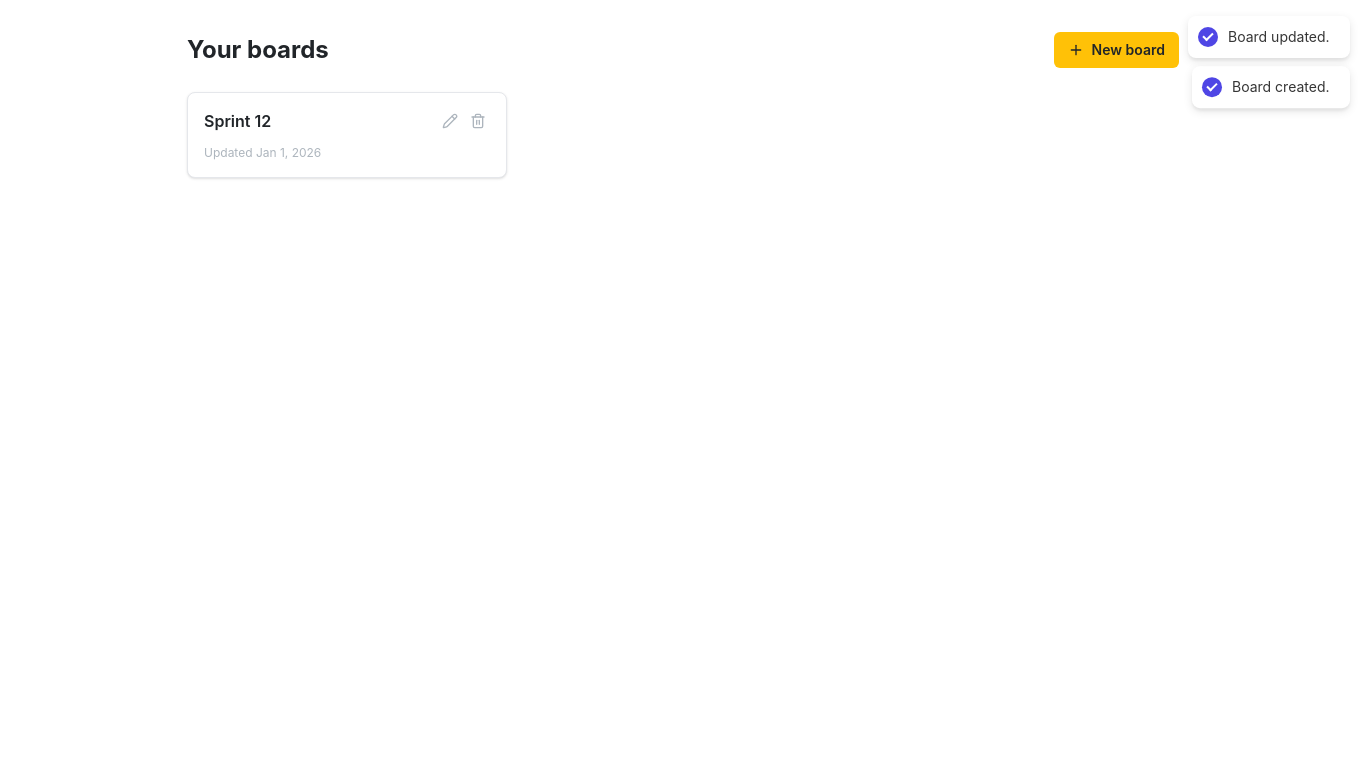
BoardsListPage › deletes a board after confirming
Expected: the link "Sprint 12" is shown, [204, 109, 271, 133]
Click the button named "Delete Sprint 12": [478, 121] box [466, 109, 490, 133]
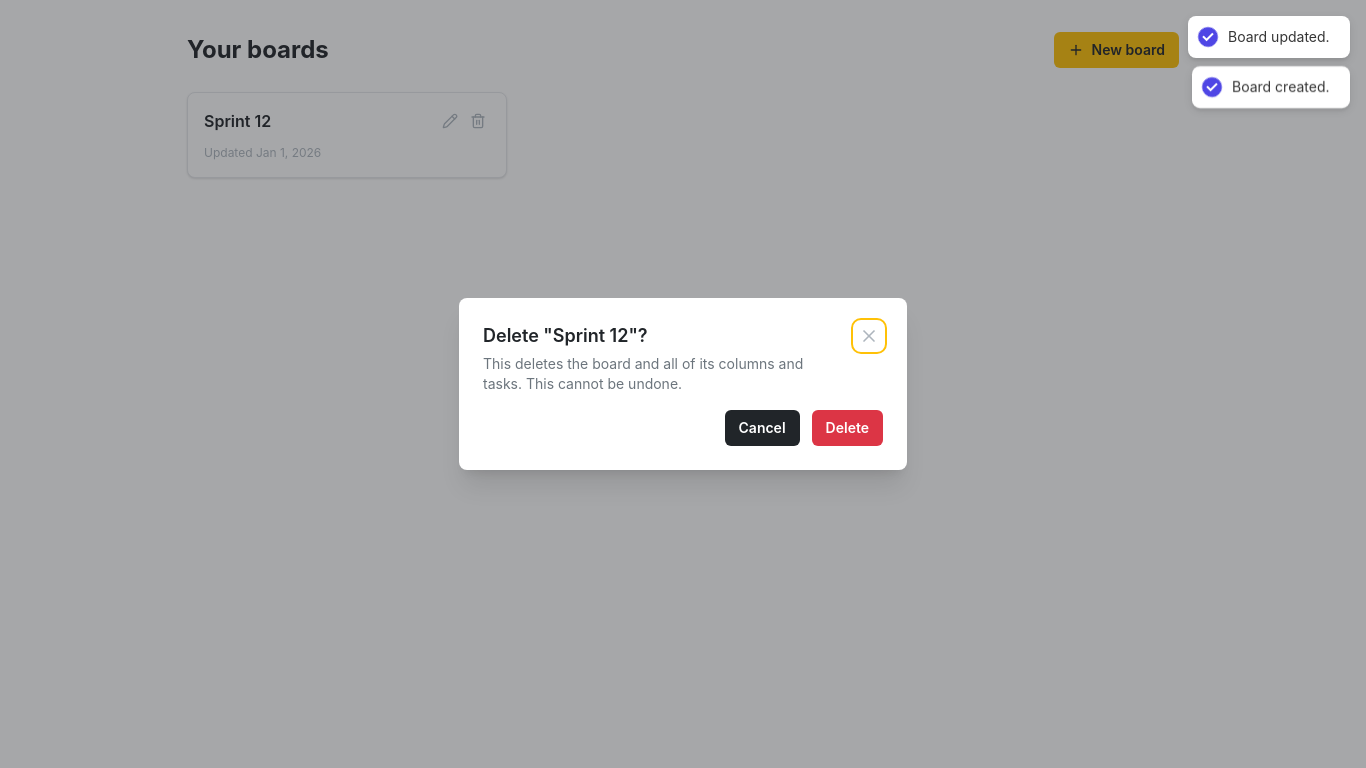
Click the button "Delete": [847, 428] box [812, 410, 883, 446]
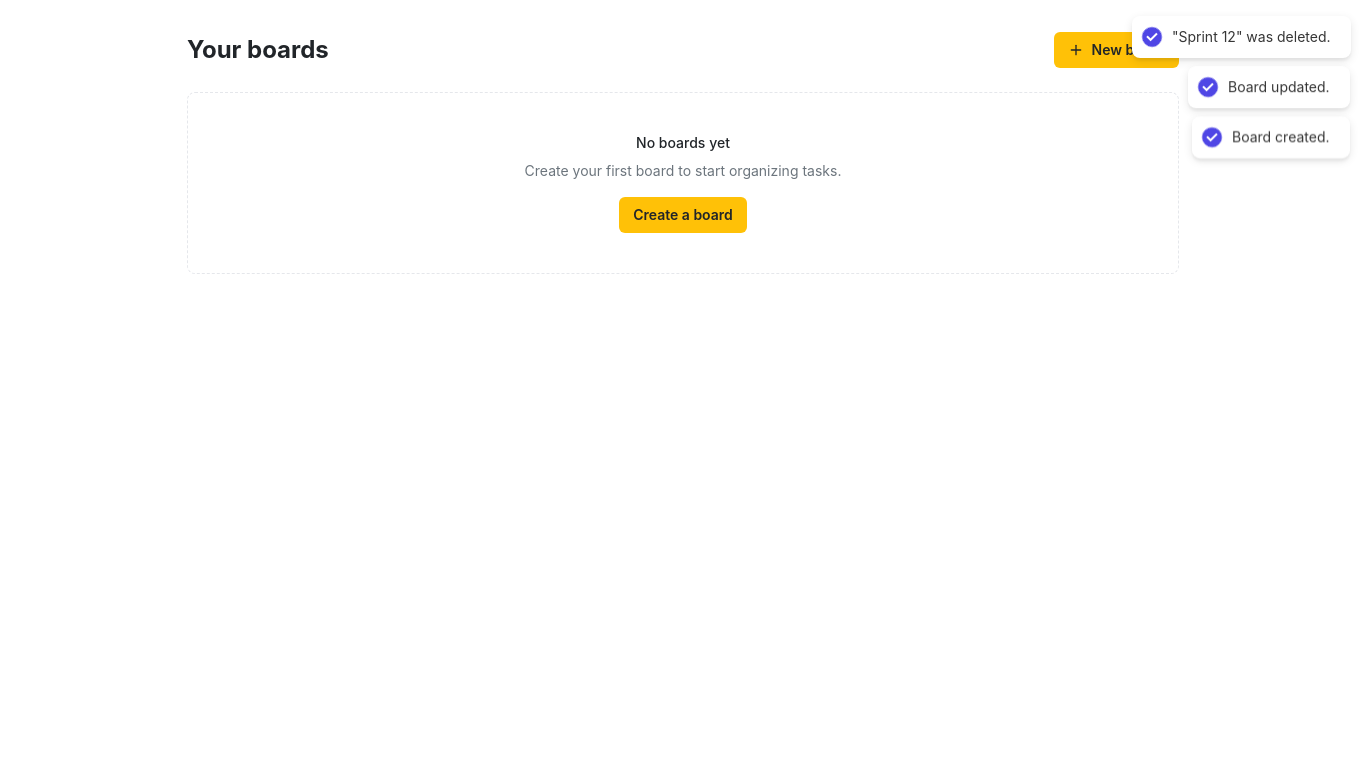
Expected: the text "No boards yet" is shown, [636, 133, 730, 153]
